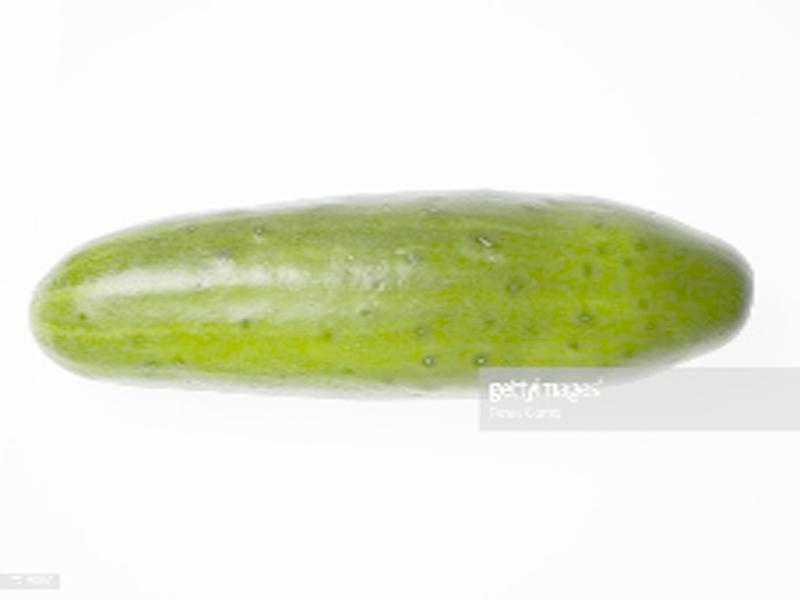Cucumber: (25, 188, 761, 399)
